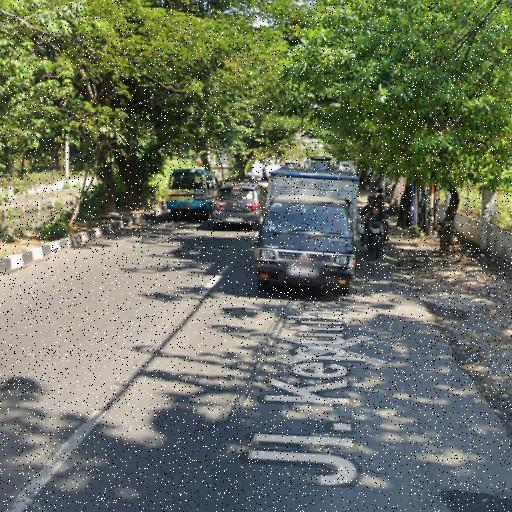Helmet: (368, 193, 375, 200), (376, 194, 384, 200)
Motor: (366, 219, 383, 258)
